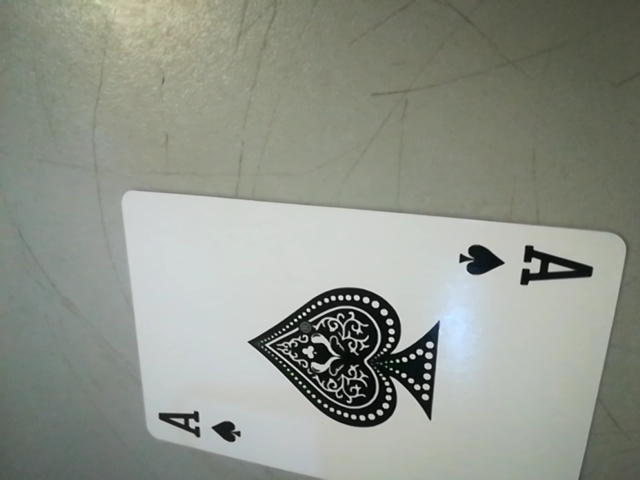ht a: (454, 233, 619, 290)
